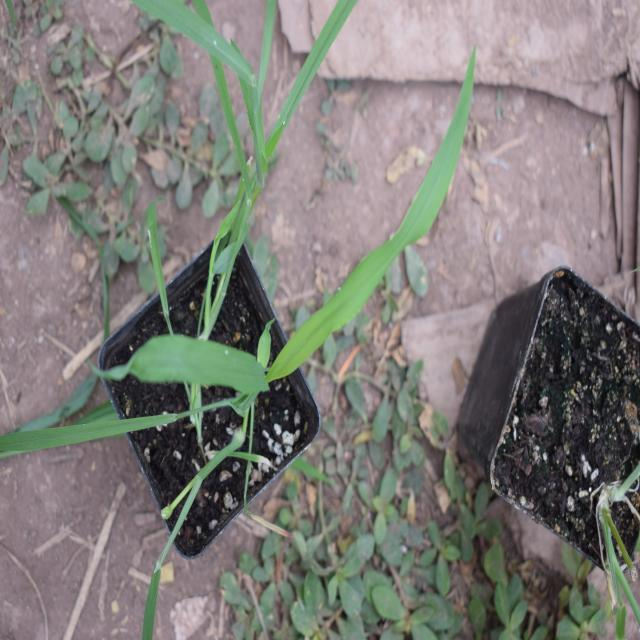crabgrass: (125, 0, 480, 462)
